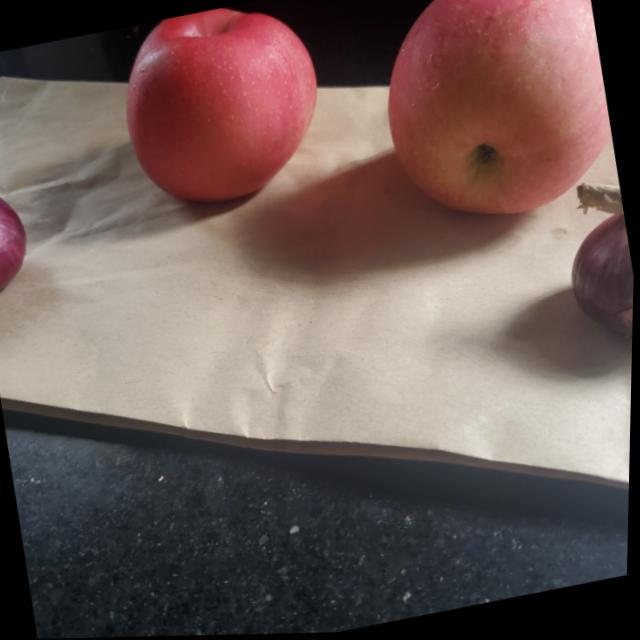apple: (364, 0, 623, 236), (111, 0, 336, 216)
onion: (555, 177, 637, 353), (0, 172, 36, 300)
